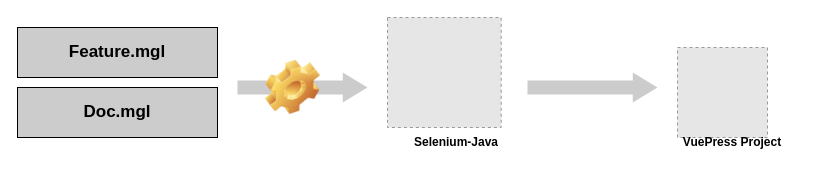
Image size: 815x175. Some labels were removed from this diagram. Grey dashed boxes stand in for pictures. The centre of each missing label's shape, as x and y in pixels:
"creates" belongs at (x=592, y=87).
"generates" belongs at (x=292, y=87).
